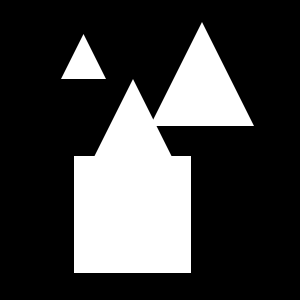circle: (74, 156, 191, 273)
triangle: (150, 22, 254, 126), (94, 79, 172, 157), (61, 34, 106, 79)
